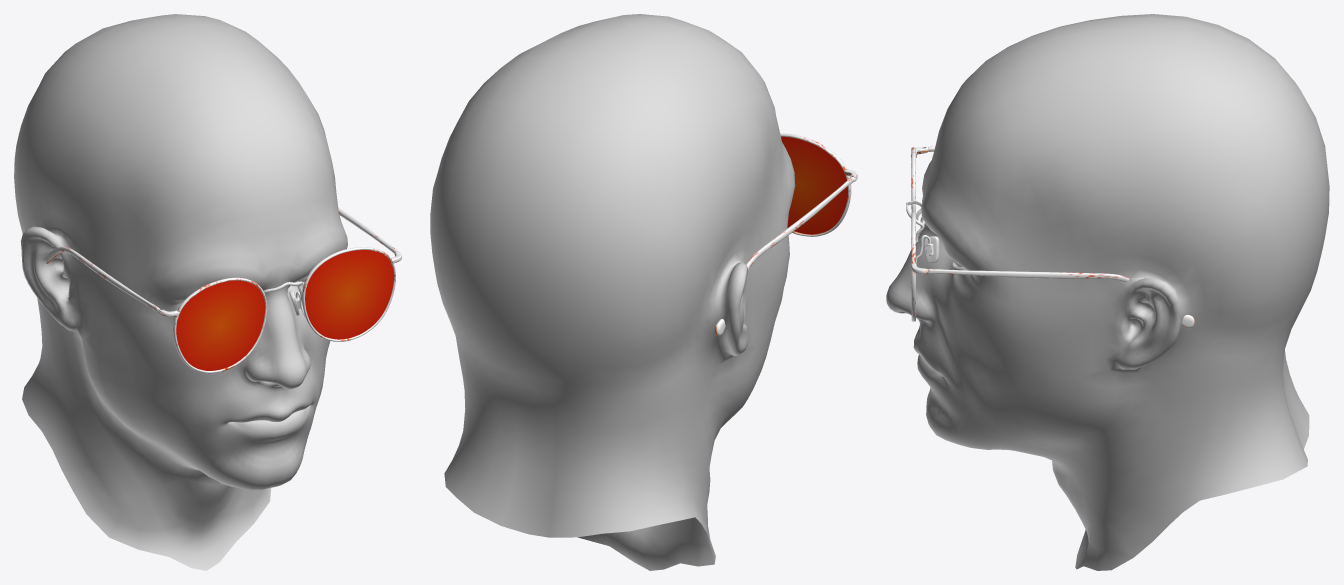
The model's file is glasses3.2.glb.
The picture shows the model from 3 angles, left to right: view 1: azimuth 30°, elevation 25°; view 2: azimuth 150°, elevation 25°; view 3: azimuth 270°, elevation 25°; orthographic projection. The views are drawn at different scales.
Parts seen in each view (by area): view 1: man_body_0014 uv map, MOSCOT_ZEV_TT_SE, Rims, Temples; view 2: man_body_0014 uv map, MOSCOT_ZEV_TT_SE, Temples, Rims; view 3: man_body_0014 uv map, Temples, Rims.
Boxes of the visible parts, x1=… form: man_body_0014 uv map: x1=14, y1=14, x2=347, y2=570; MOSCOT_ZEV_TT_SE: x1=176, y1=250, x2=393, y2=370; Rims: x1=173, y1=247, x2=395, y2=373; Temples: x1=46, y1=208, x2=397, y2=312; man_body_0014 uv map: x1=430, y1=14, x2=795, y2=570; MOSCOT_ZEV_TT_SE: x1=781, y1=136, x2=847, y2=234; Temples: x1=714, y1=178, x2=853, y2=336; Rims: x1=780, y1=133, x2=851, y2=236; man_body_0014 uv map: x1=886, y1=14, x2=1329, y2=570; Temples: x1=928, y1=146, x2=1194, y2=328; Rims: x1=911, y1=147, x2=916, y2=321.
Bounding box in the file's own units: 1.27 × 2.22 × 1.65.
8 materials, 6 textured.
